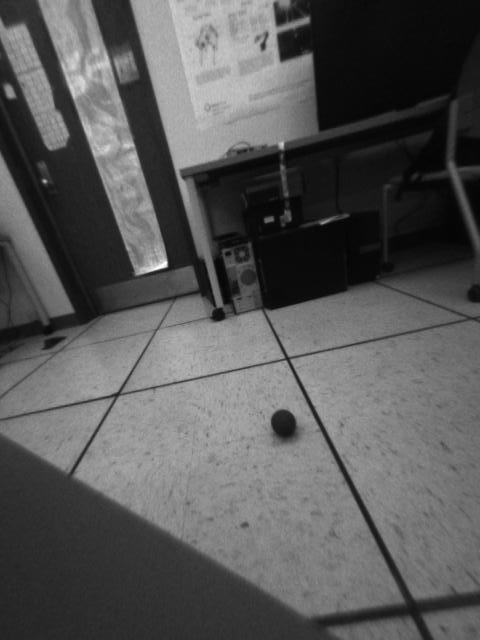dogtoy: (266, 403, 303, 442)
